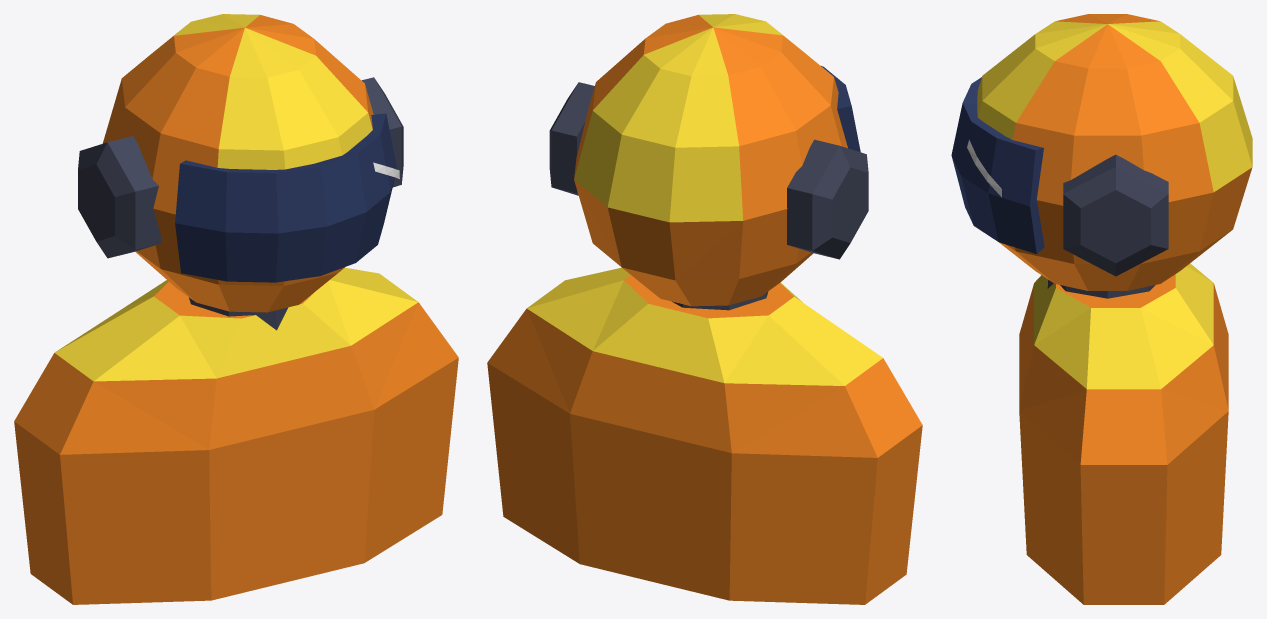
Rendered from pilot_bruno.obj.
The picture shows the model from 3 angles, left to right: view 1: azimuth 30°, elevation 25°; view 2: azimuth 150°, elevation 25°; view 3: azimuth 270°, elevation 25°; orthographic projection. The views are drawn at different scales.
Parts seen in each view (by area): view 1: body, head; view 2: body, head; view 3: head, body.
Boxes of the visible parts, bbox=[...] form: body: bbox=[14, 267, 458, 604]; head: bbox=[78, 14, 403, 312]; body: bbox=[487, 267, 922, 604]; head: bbox=[549, 14, 868, 306]; head: bbox=[951, 14, 1252, 290]; body: bbox=[1019, 263, 1228, 604].
Size of the model in its own units: 0.5388 by 0.675 by 0.3717.
